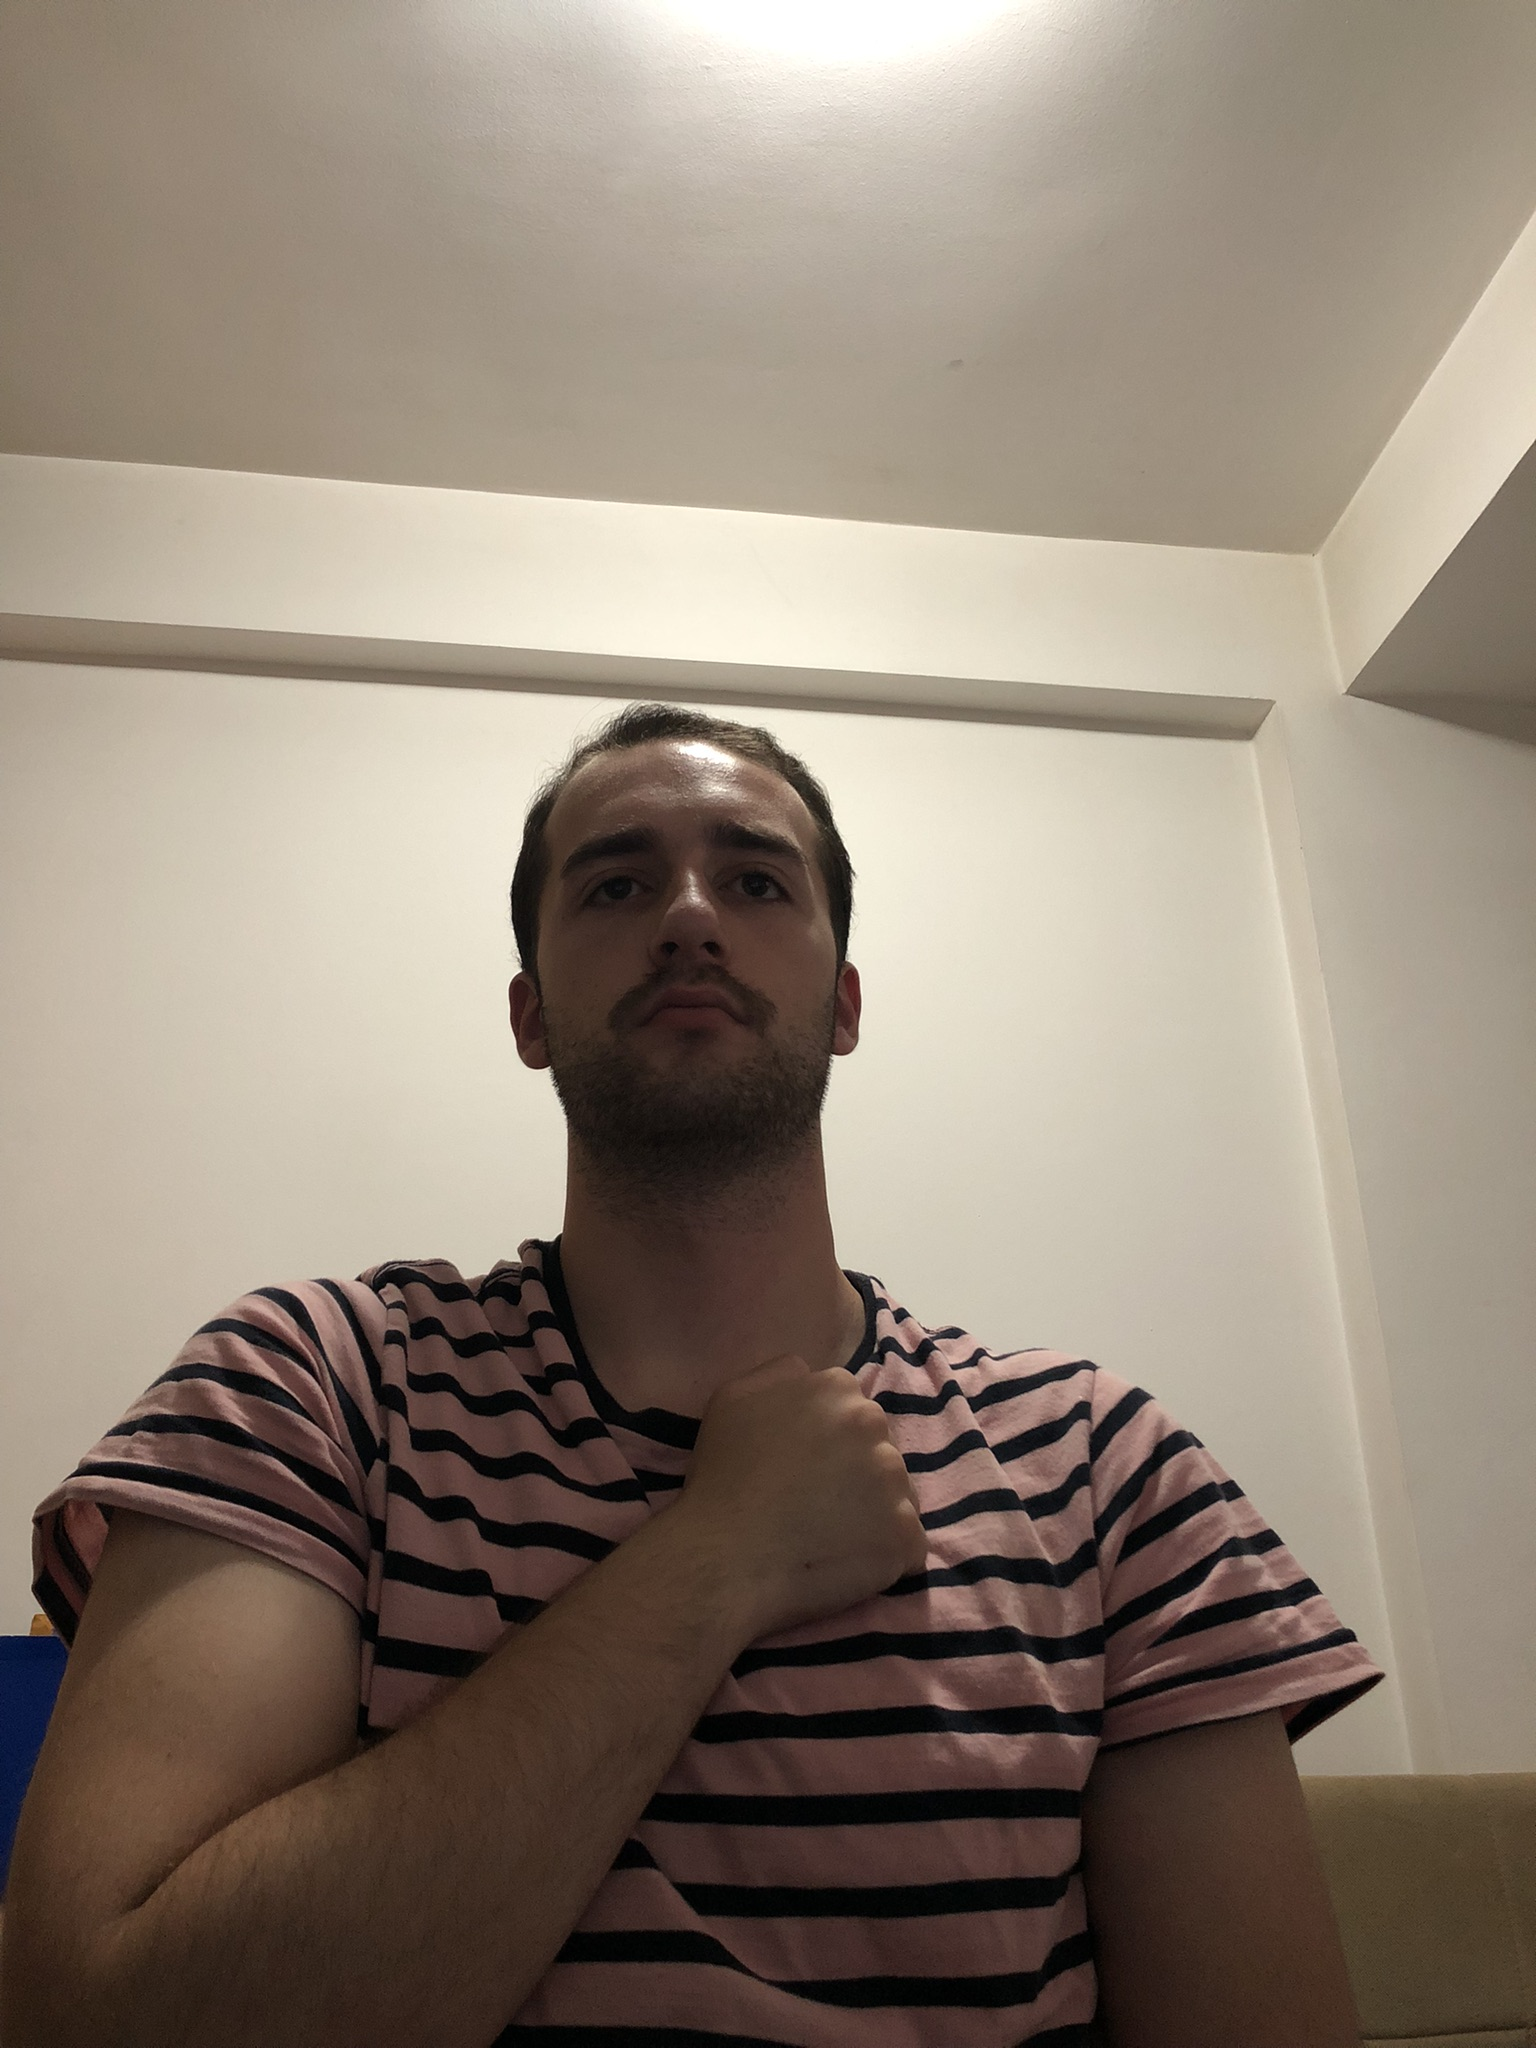Sorry: (3, 1355, 936, 2048)
